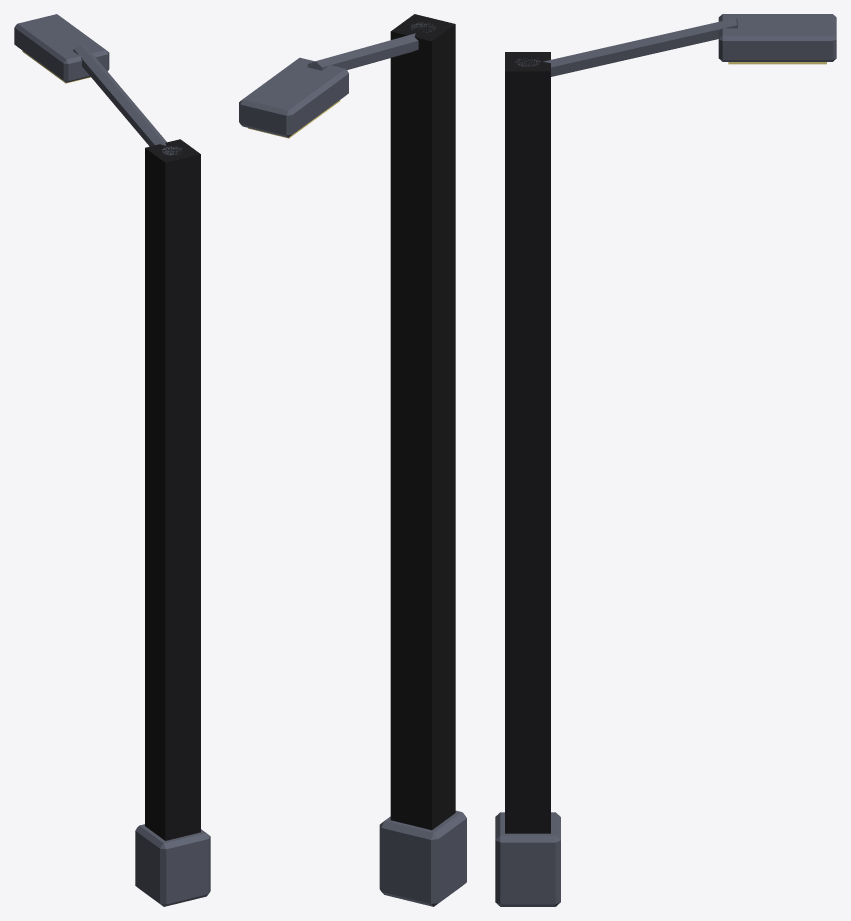
File: env_lamp_post.fbx
3 renders of one model, left to right at view 1: azimuth 30°, elevation 25°; view 2: azimuth 150°, elevation 25°; view 3: azimuth 270°, elevation 25°, orthographic. The views are drawn at different scales.
Visible parts, largest first — view 1: COL_env_lamp_post, env_lamp_post_geo; view 2: COL_env_lamp_post, env_lamp_post_geo; view 3: COL_env_lamp_post, env_lamp_post_geo.
Part boxes in pixels (x1=…): COL_env_lamp_post: x1=145, y1=139, x2=200, y2=840; env_lamp_post_geo: x1=14, y1=14, x2=210, y2=906; COL_env_lamp_post: x1=390, y1=14, x2=455, y2=830; env_lamp_post_geo: x1=239, y1=22, x2=466, y2=906; COL_env_lamp_post: x1=505, y1=52, x2=550, y2=833; env_lamp_post_geo: x1=495, y1=14, x2=836, y2=906.
Size of the model in its own units: 0.5 by 7.37 by 2.6.
